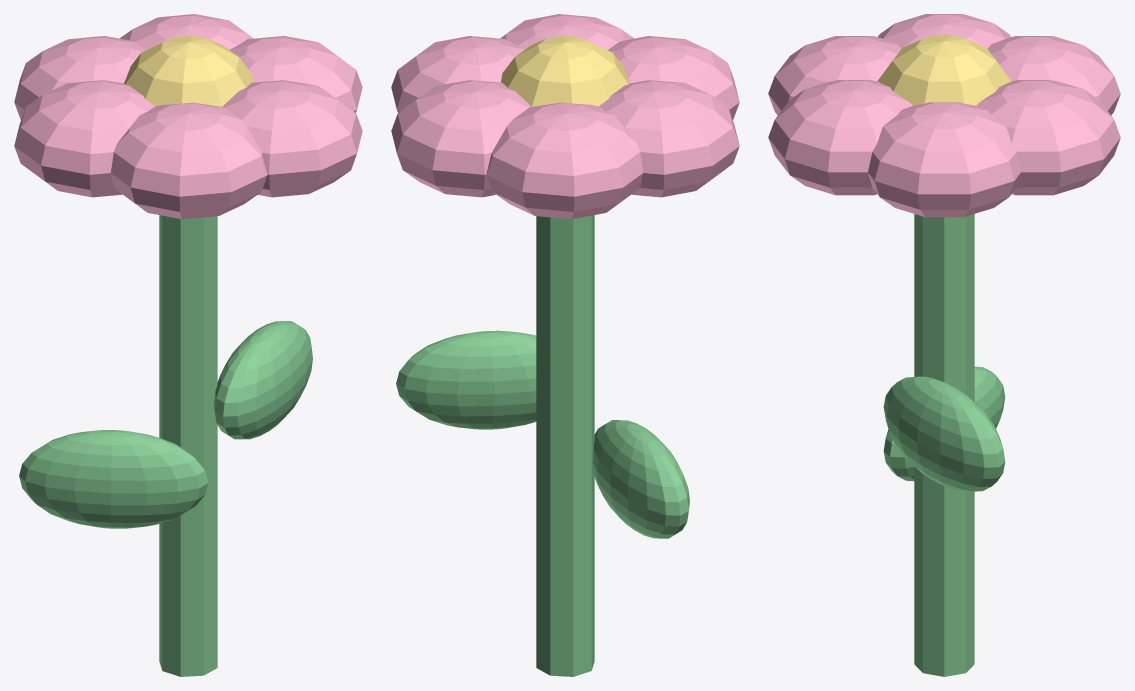
File: flower.glb
The picture shows the model from 3 angles, left to right: view 1: azimuth 30°, elevation 25°; view 2: azimuth 150°, elevation 25°; view 3: azimuth 270°, elevation 25°; orthographic projection.
Visible parts, largest first — view 1: FlowerPink, FlowerGreen, FlCenter; view 2: FlowerPink, FlowerGreen, FlCenter; view 3: FlowerPink, FlowerGreen, FlCenter.
Boxes of the visible parts, <box> form: FlowerPink: <box>14,14,362,219</box>; FlowerGreen: <box>19,215,312,676</box>; FlCenter: <box>124,35,252,106</box>; FlowerPink: <box>391,14,739,219</box>; FlowerGreen: <box>396,215,689,676</box>; FlCenter: <box>501,35,629,106</box>; FlowerPink: <box>768,14,1120,217</box>; FlowerGreen: <box>883,214,1005,676</box>; FlCenter: <box>877,35,1011,105</box>.
Size of the model in its own units: 0.4302 by 0.795 by 0.4078.
